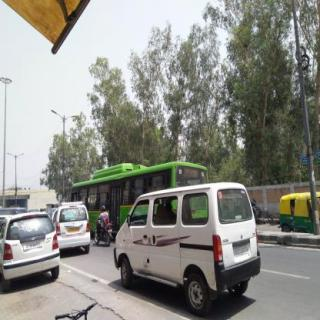Normal_vehicle: (115, 182, 260, 315)
